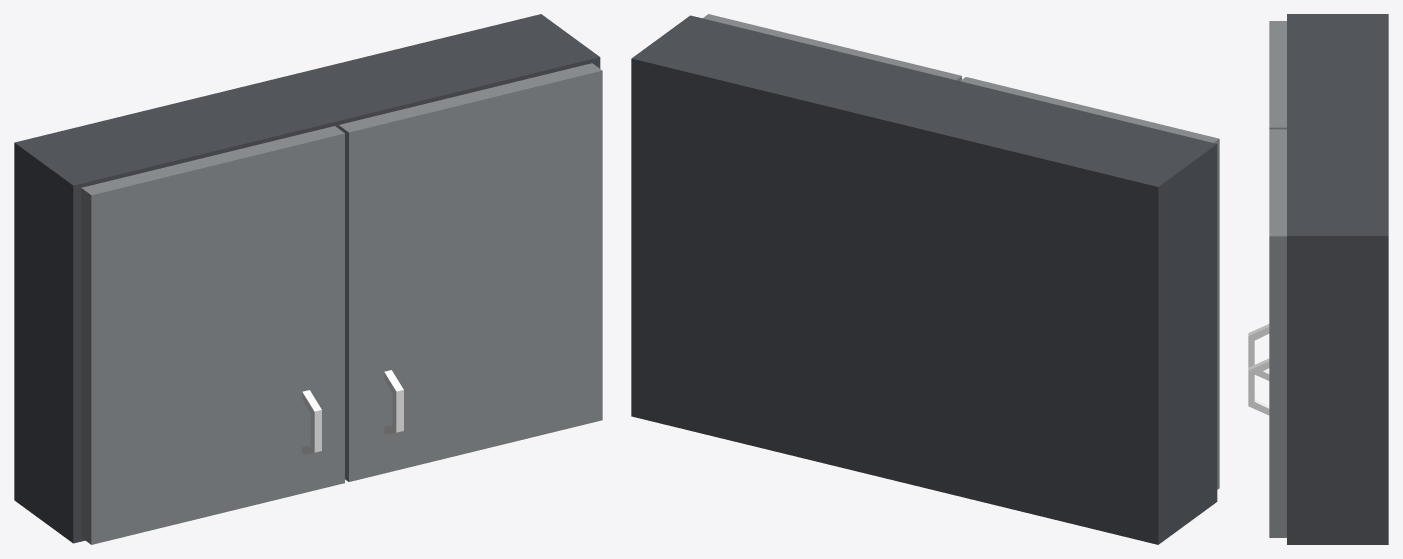
Rendered from Cupboard_6_1.fbx.
3 views of the same model, side by side, from view 1: azimuth 30°, elevation 25°; view 2: azimuth 150°, elevation 25°; view 3: azimuth 270°, elevation 25° (orthographic). The views are drawn at different scales.
Visible parts, largest first — view 1: polySurface1676; view 2: polySurface1676; view 3: polySurface1676.
Part boxes in pixels (box(x1,y1,x2,y2)): polySurface1676: box(14, 14, 602, 544); polySurface1676: box(631, 14, 1219, 544); polySurface1676: box(1248, 14, 1388, 544).
Bounding box in the file's own units: 1.8 × 1.17 × 0.4813.
Materials: 1 (1 with a texture image).
